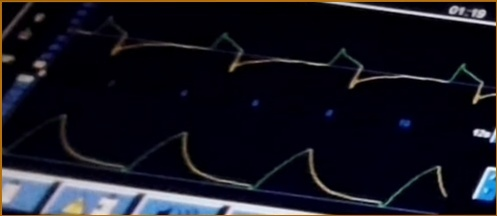Flow: (76, 10, 496, 102)
Leakage Volume: (2, 108, 448, 205)
